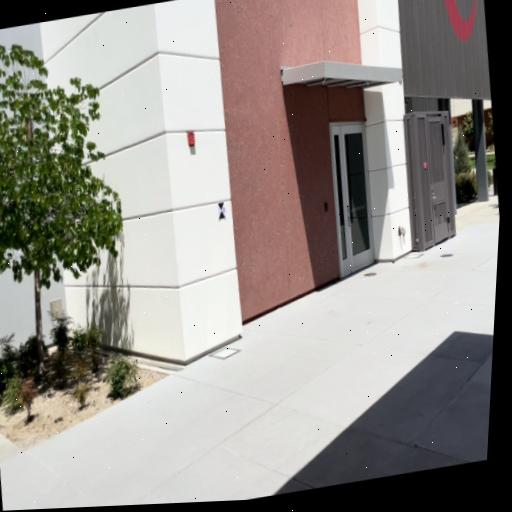target9: (216, 202, 228, 220)
